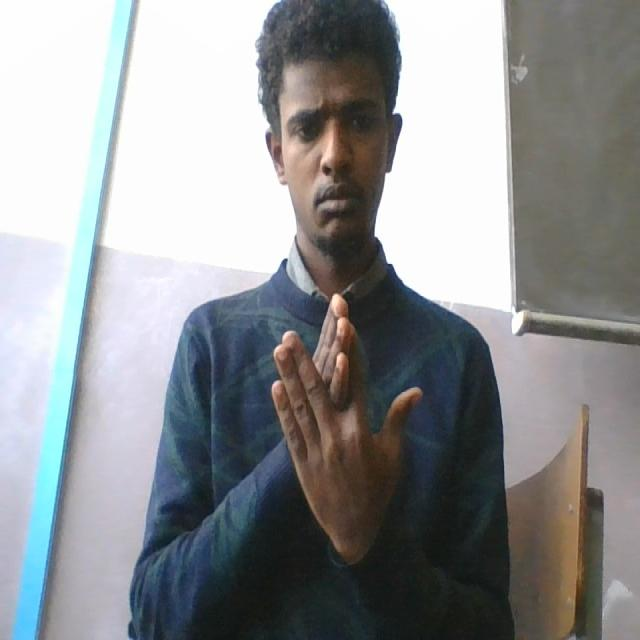bekul: (266, 286, 428, 566)
